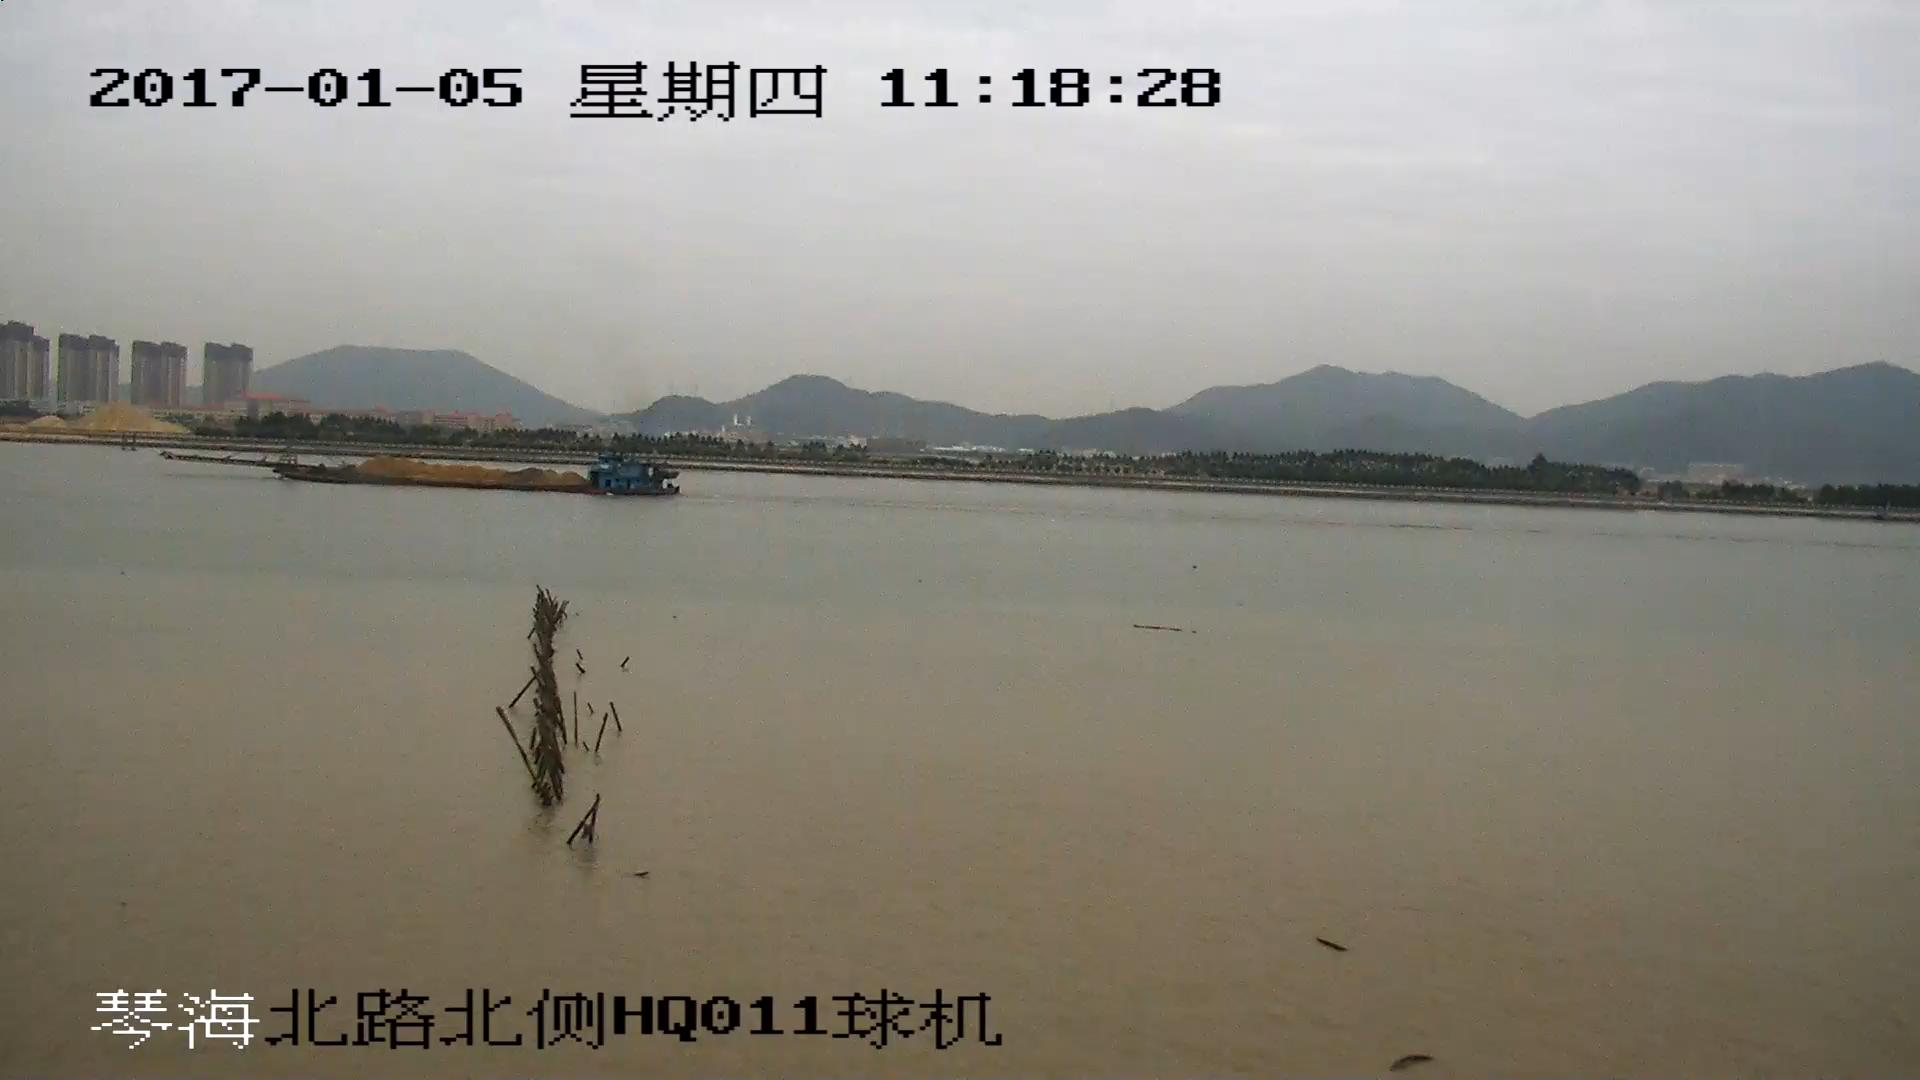ore carrier: (168, 436, 672, 496)
